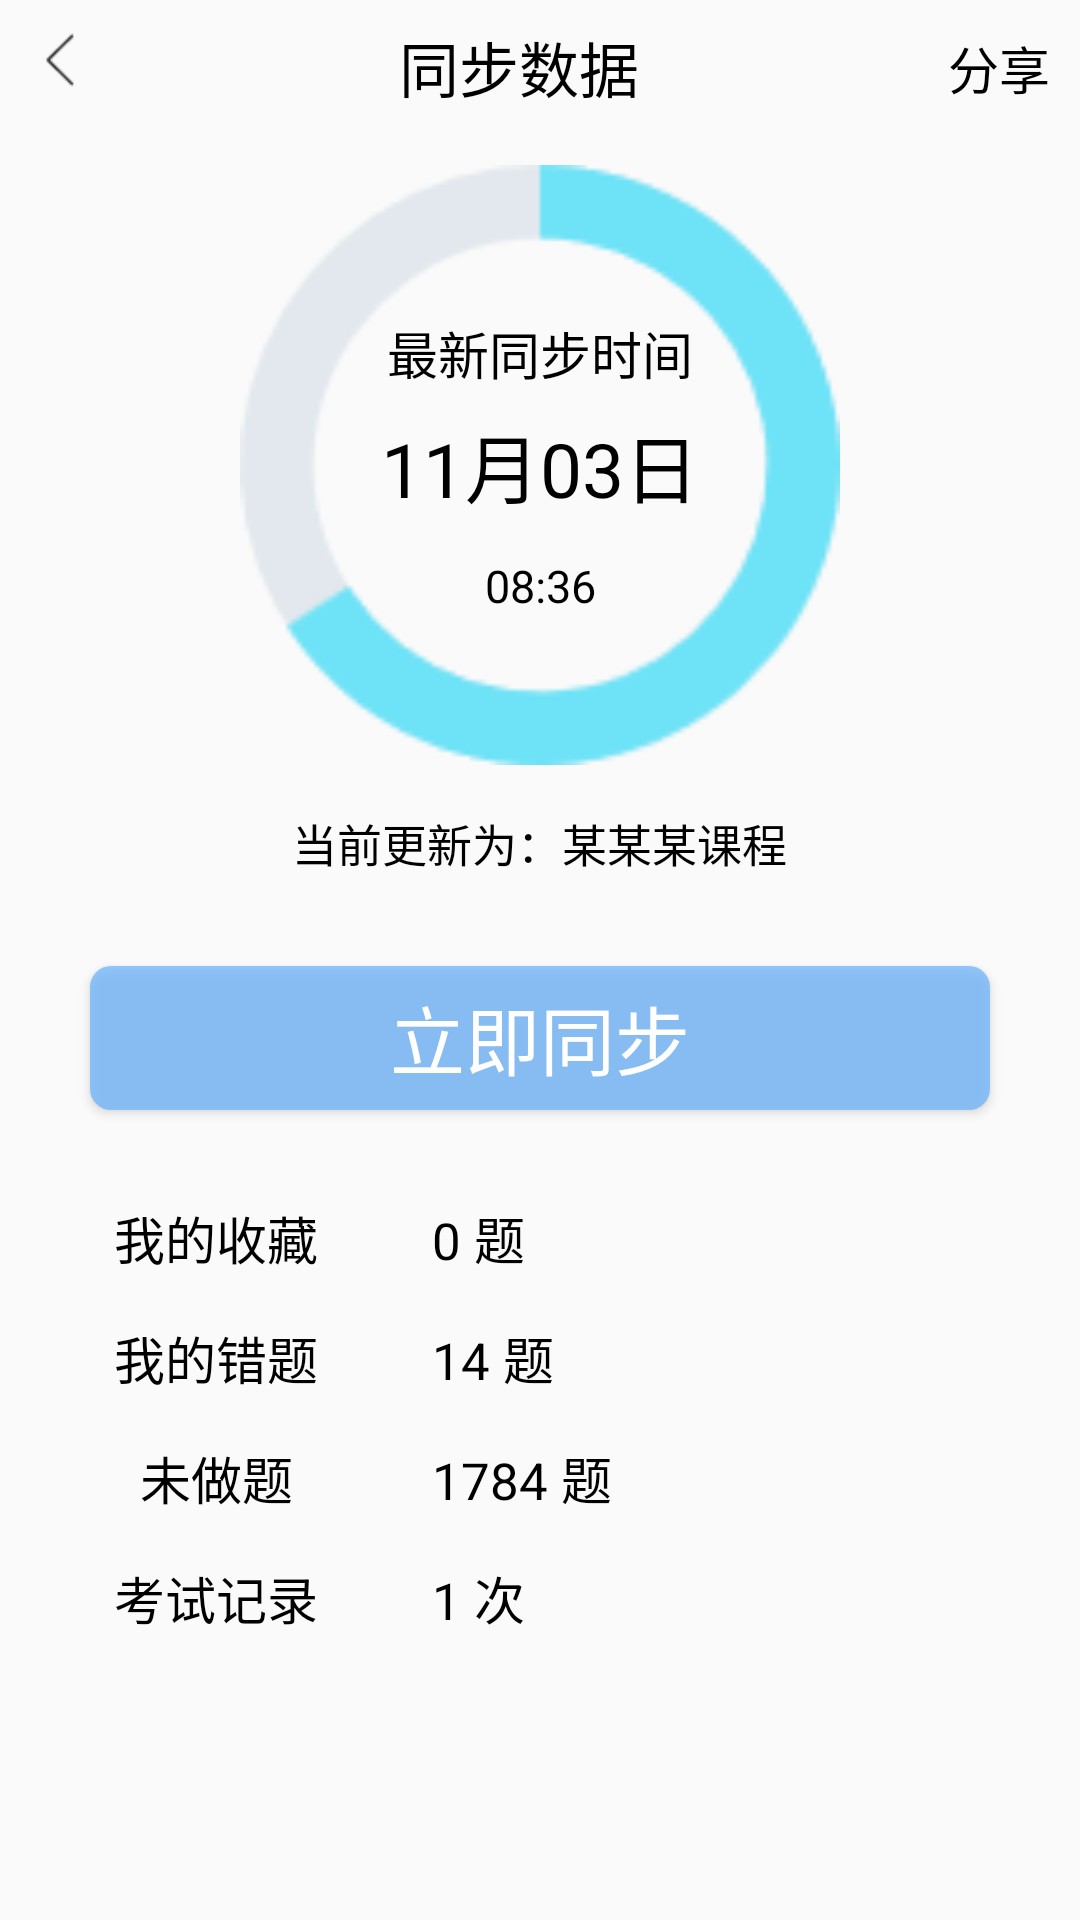

Named icons in this screenshot (1080 x 1920) and their bounding boxes, box=[x1, y1, x2, y2]:
if fanhui: box=[46, 33, 74, 86]
